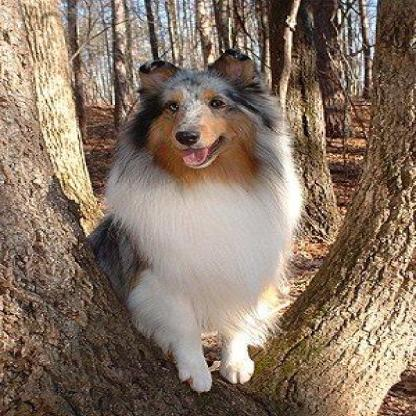collie: (75, 46, 306, 395)
